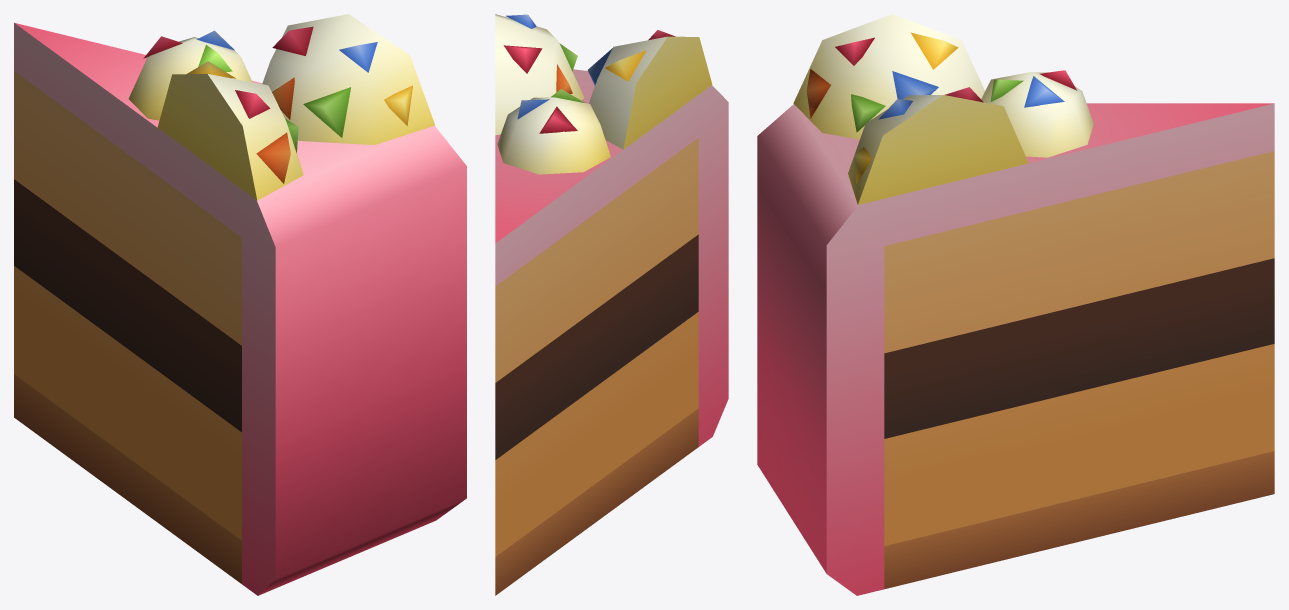
The model's file is m_PartyCake01_Slice.fbx.
3 renders of one model, left to right at view 1: azimuth 30°, elevation 25°; view 2: azimuth 150°, elevation 25°; view 3: azimuth 270°, elevation 25°, orthographic. The views are drawn at different scales.
Visible parts, largest first — view 1: m_PartyCake01_Slice; view 2: m_PartyCake01_Slice; view 3: m_PartyCake01_Slice.
Part boxes in pixels (<box>): m_PartyCake01_Slice: <box>14,14,466,595</box>; m_PartyCake01_Slice: <box>495,14,728,595</box>; m_PartyCake01_Slice: <box>757,14,1274,595</box>.
Bounding box in the file's own units: 5.88 × 12.04 × 11.76.
